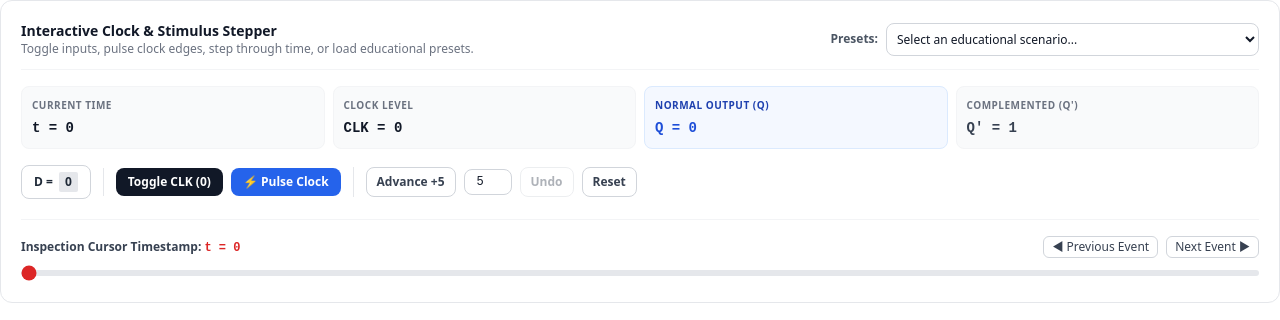
Scenario: ClockStepper › pulses clock and updates output state Q
Click the button named "Toggle input D" at (56, 182), box [21,165,91,199]
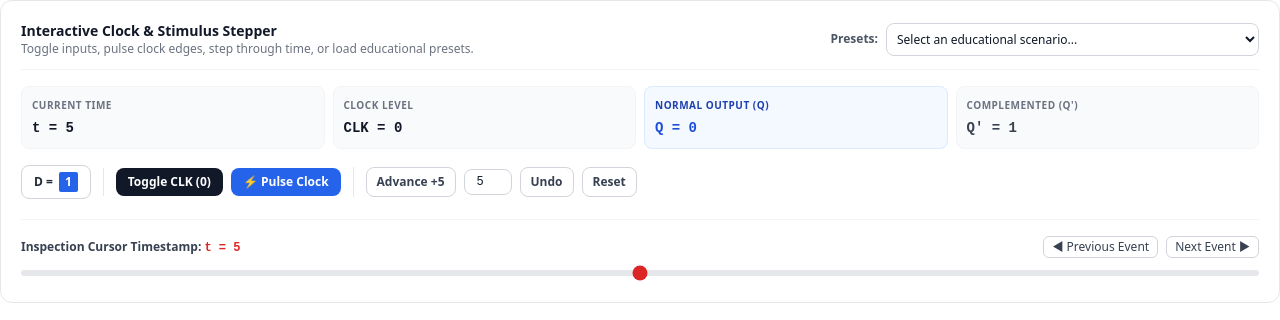
// Pulse clock
Click the button with aria-label "Pulse clock full cycle" at (286, 182), box [231,168,341,196]
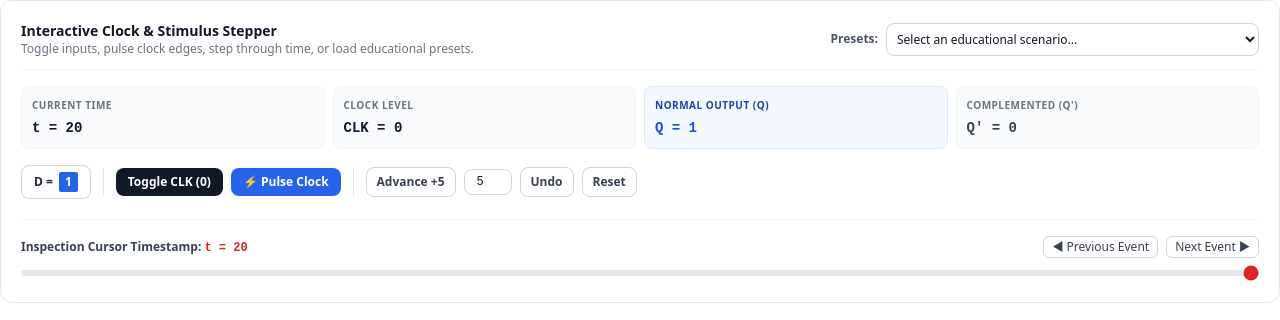
Expected: the text "Q = 1" is shown, [655,120,697,136]
